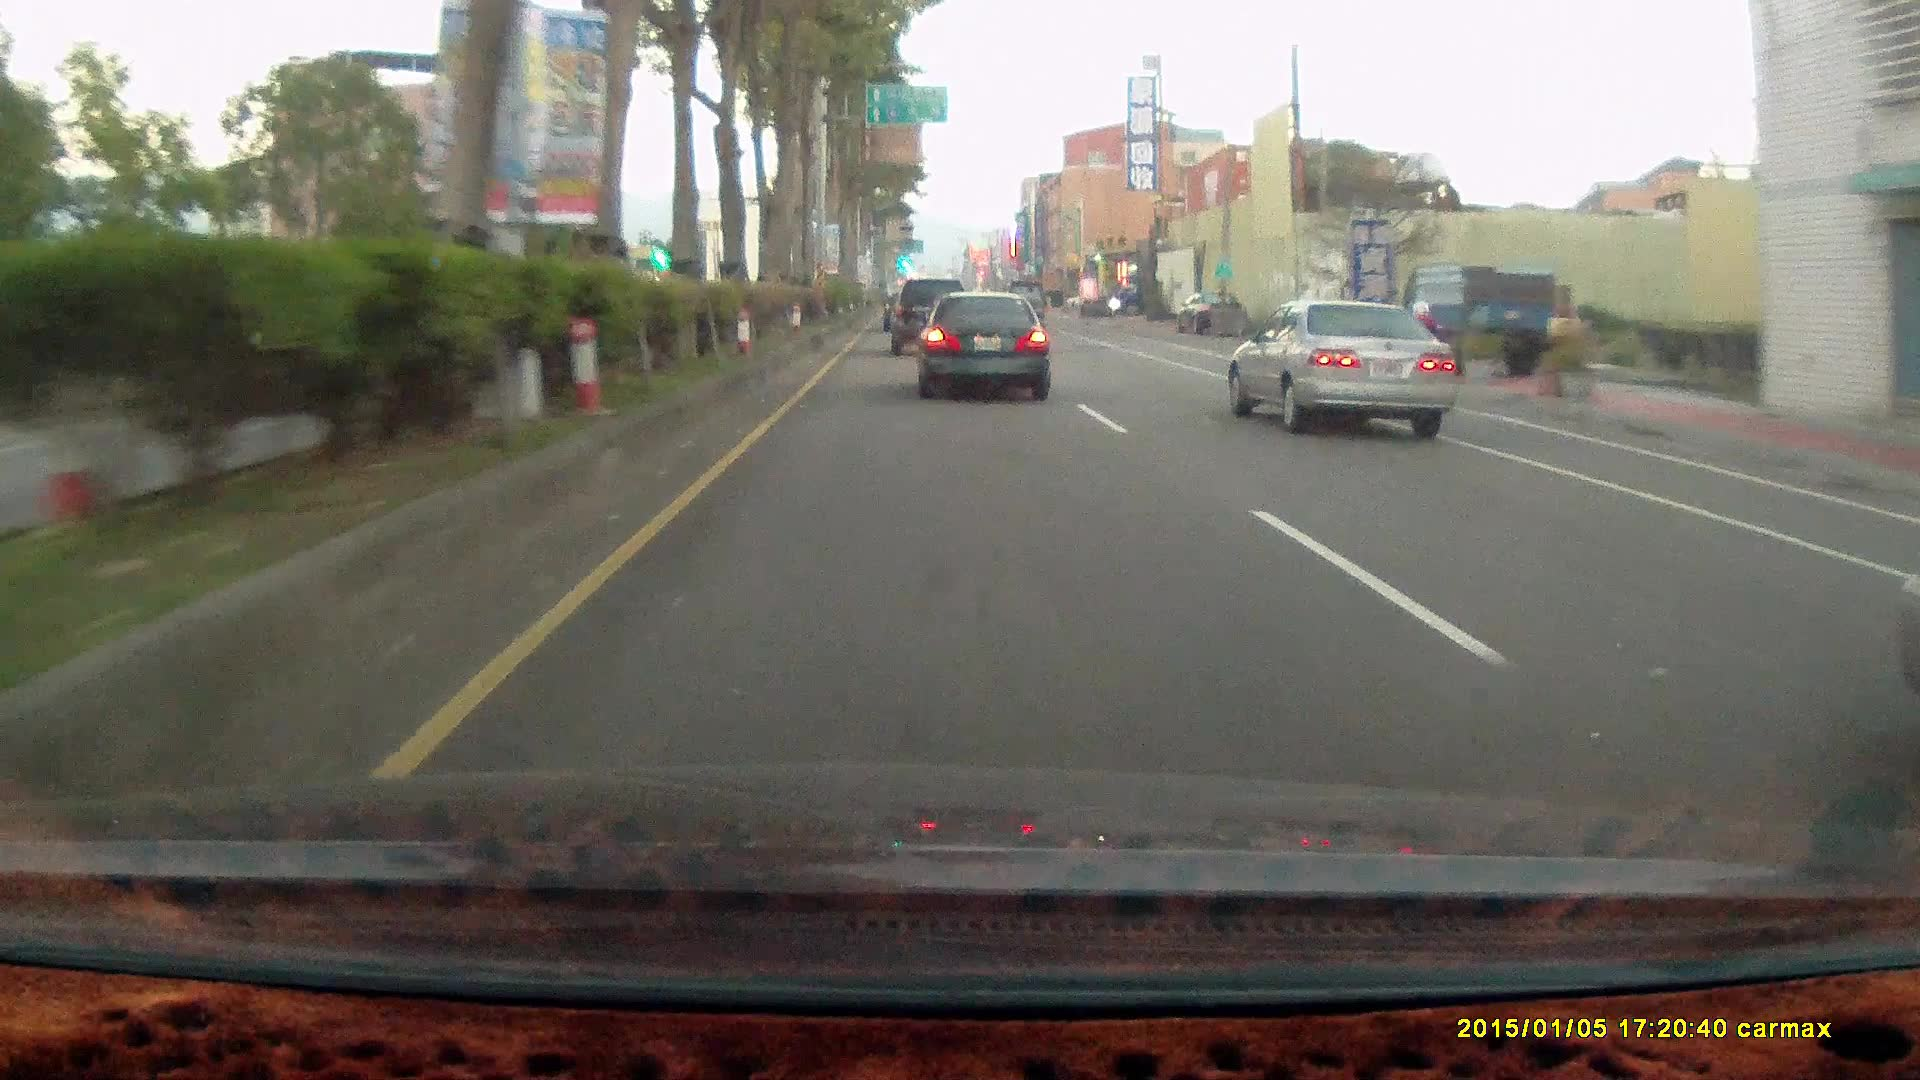vehicle: (1225, 302, 1466, 444), (1226, 298, 1457, 439), (1402, 262, 1557, 377), (1402, 266, 1557, 378), (913, 293, 1050, 404), (920, 297, 1055, 404), (887, 280, 971, 357), (1176, 295, 1253, 343), (1105, 281, 1172, 320), (1000, 280, 1046, 328)
